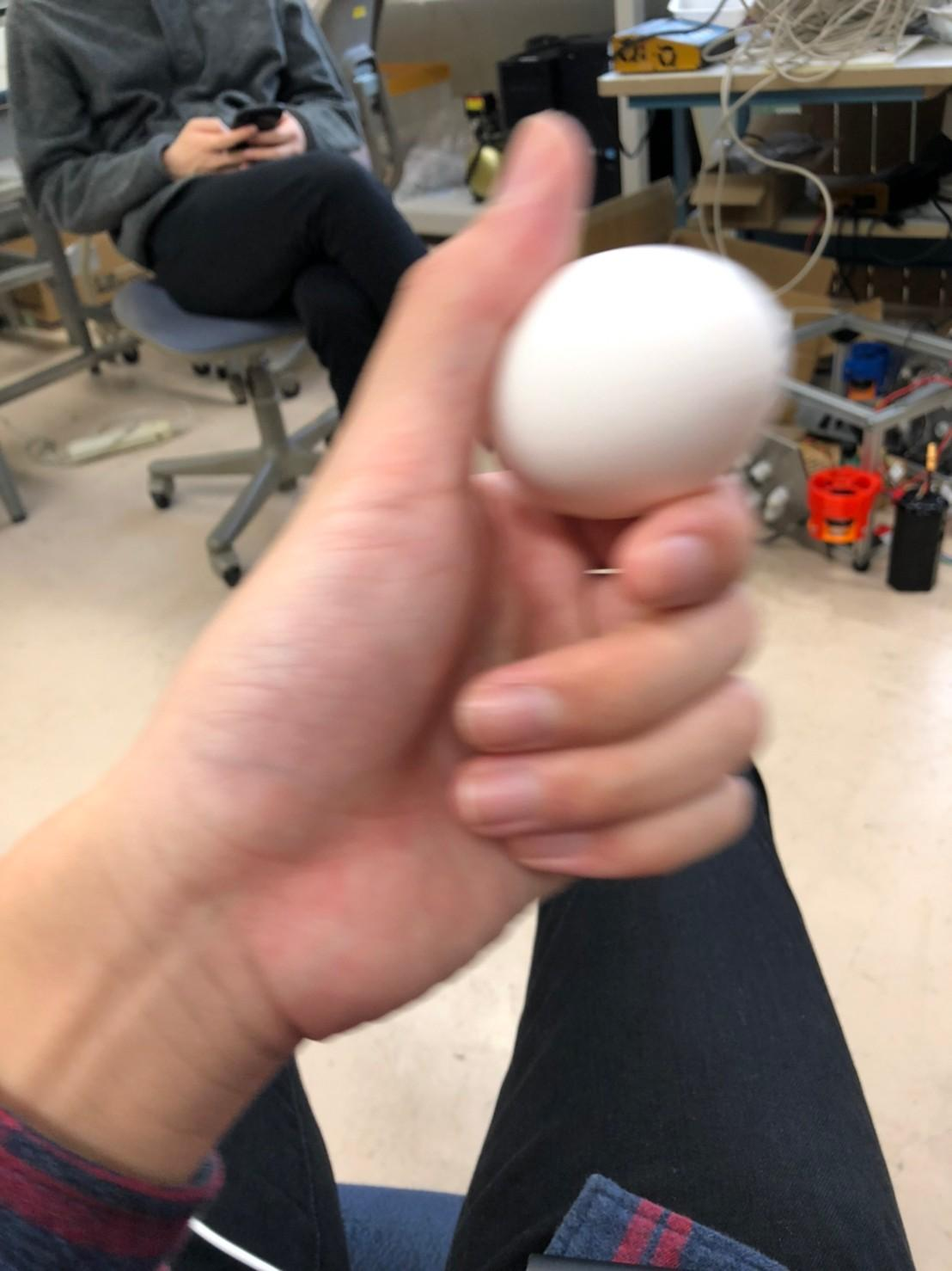egg: (485, 252, 797, 523)
